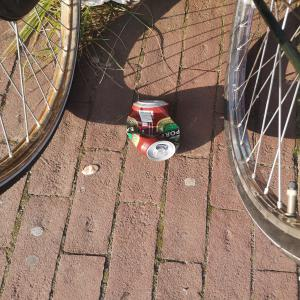Can: (125, 100, 184, 164)
